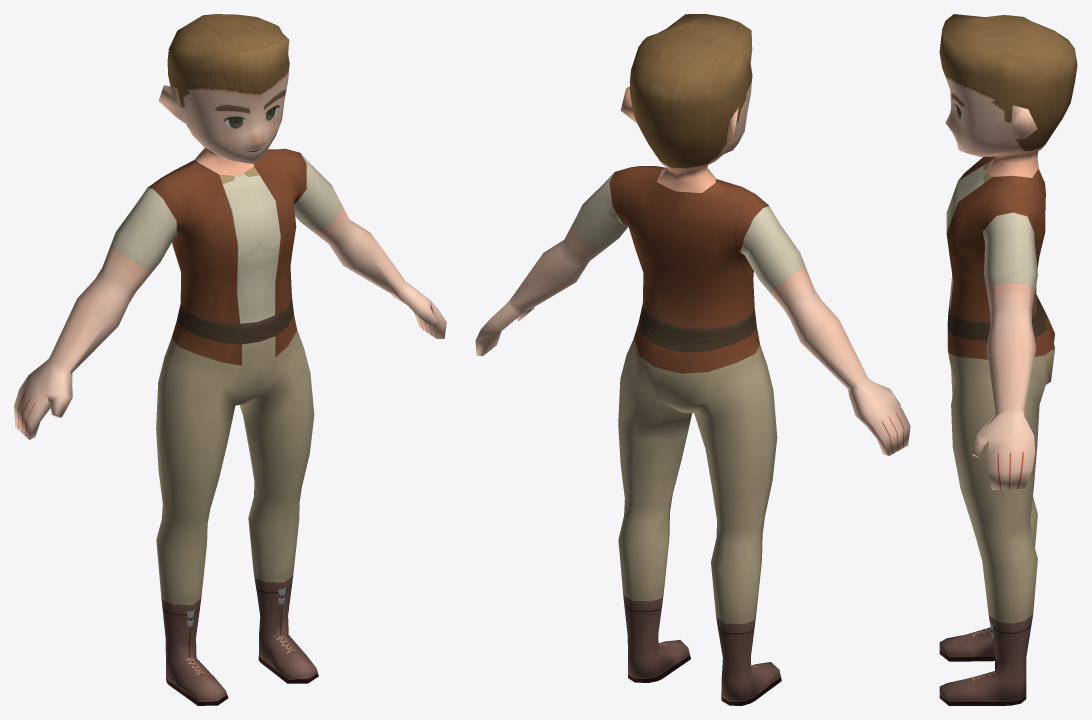
3 views of the same model, side by side, from view 1: azimuth 30°, elevation 25°; view 2: azimuth 150°, elevation 25°; view 3: azimuth 270°, elevation 25° (orthographic).
Visible parts, largest first — view 1: Peasant Bryon; view 2: Peasant Bryon; view 3: Peasant Bryon.
Boxes of the visible parts, box(x1,y1,x2,y2) form: Peasant Bryon: box(14, 14, 446, 705); Peasant Bryon: box(475, 14, 910, 705); Peasant Bryon: box(939, 14, 1077, 705).
Bounding box in the file's own units: 400 × 594 × 114.
